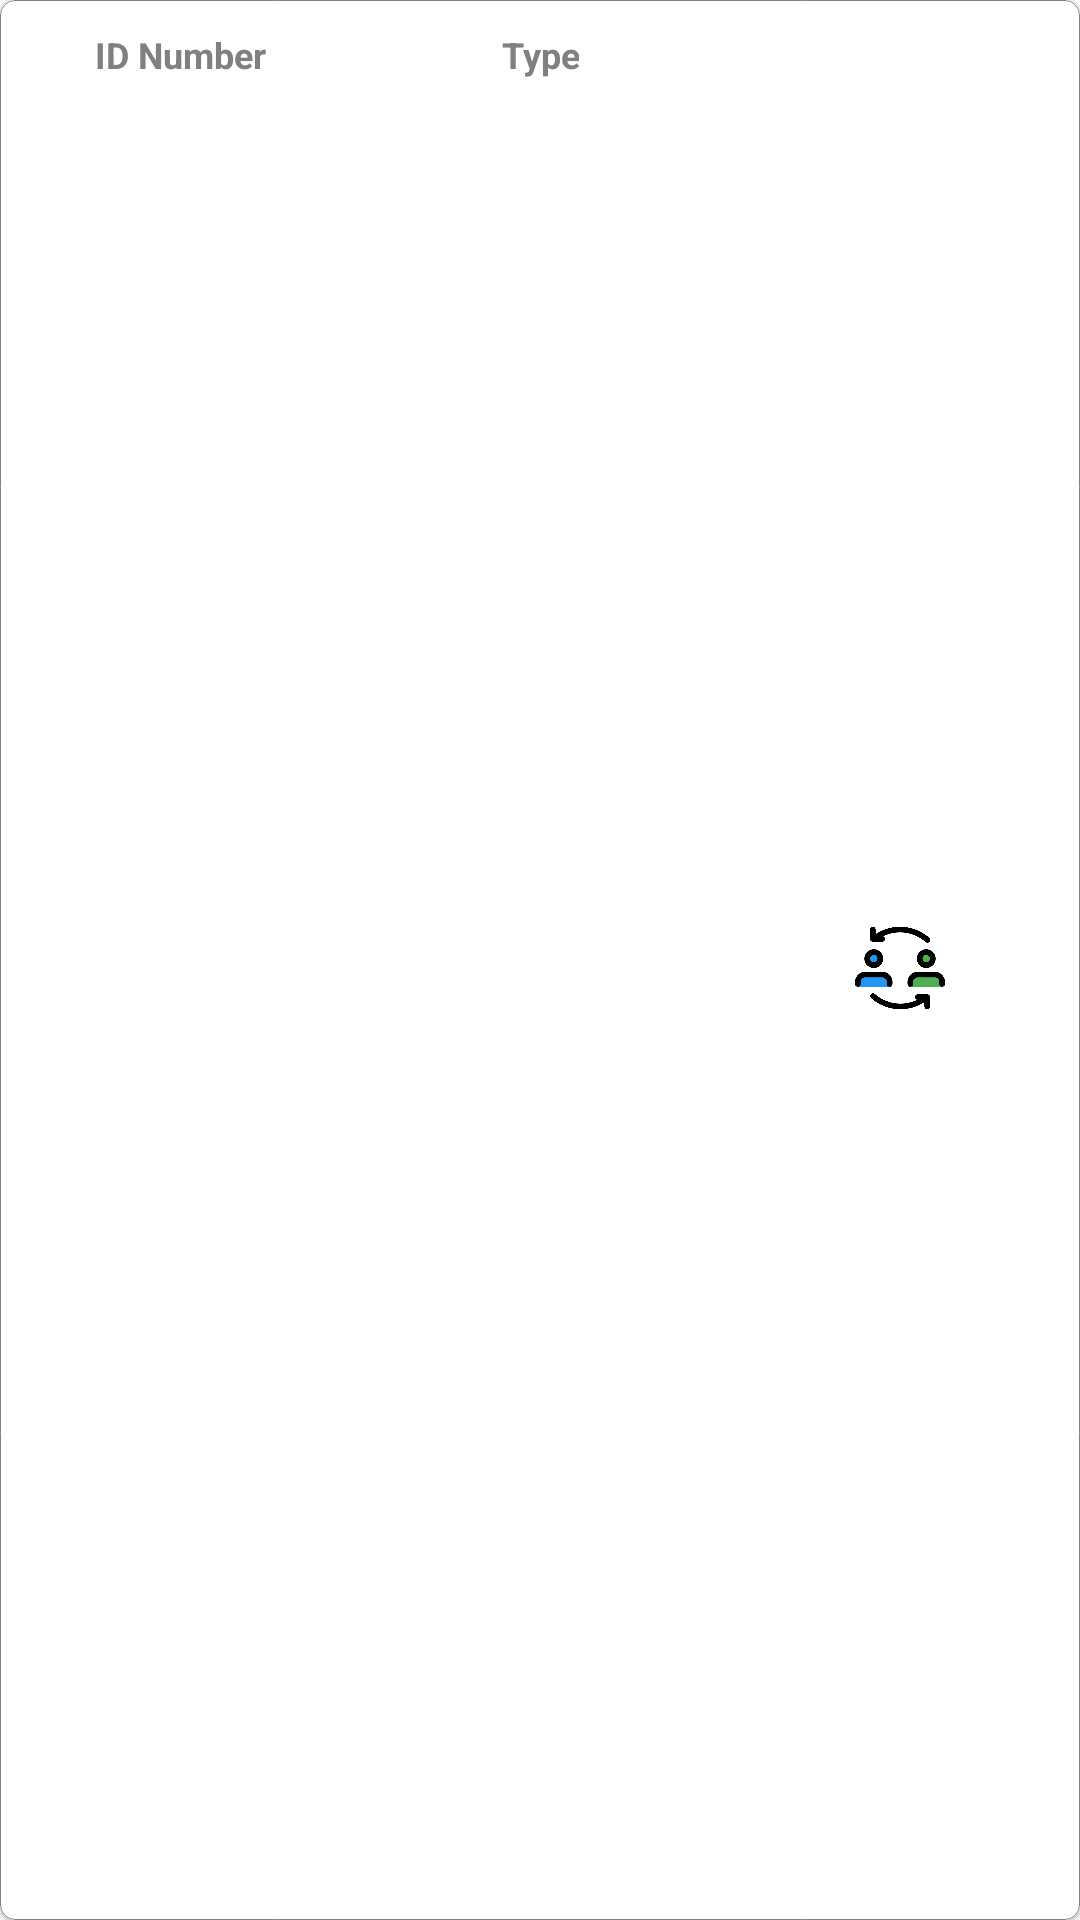

Icons on this 1080*1920 Android screen, each with its box as (x1, y1, x2, y2):
change: (855, 927, 945, 1009)
